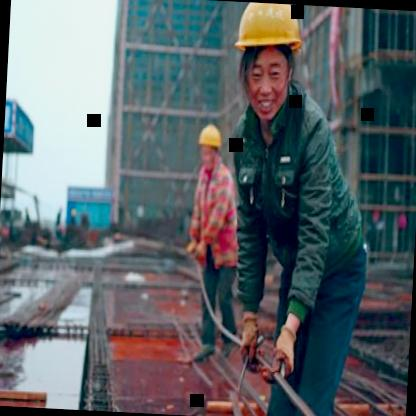helmet: (223, 1, 308, 129), (196, 119, 224, 168)
